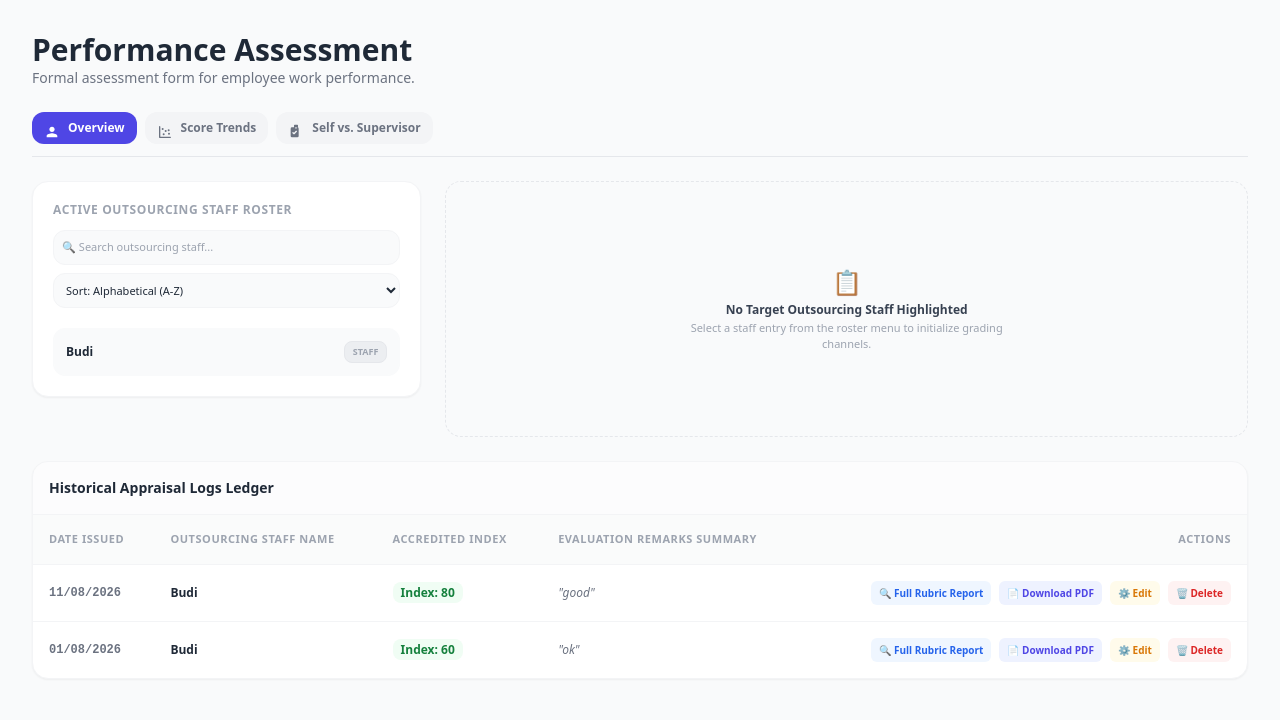
Test: PerformanceReviewView › the Self vs. Supervisor tab compares the latest self-assessment against the latest evaluation
Step 1. Click the tab "Self vs. Supervisor" → (354, 128), box [276,112,433,144]
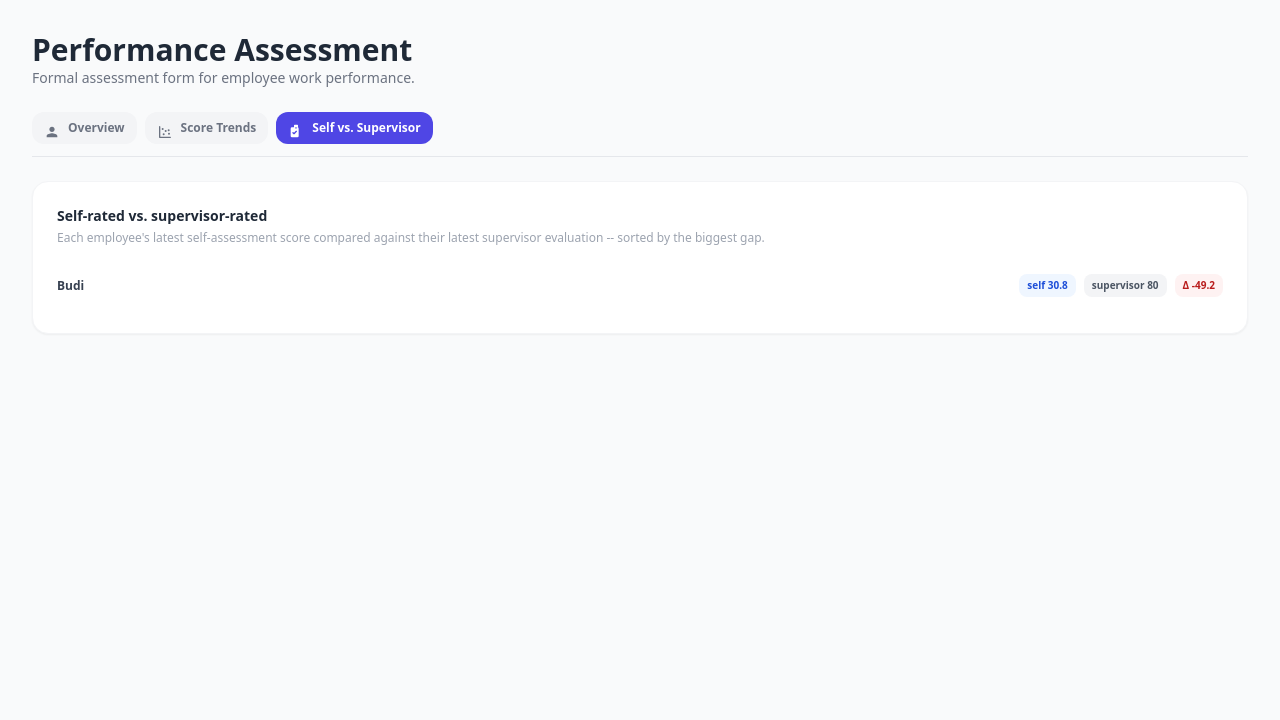
Check: the text "Budi" is shown, box [57,278,84,294]
Check: the text "self 30.8" is shown, box [1019,274,1076,297]
Check: the text "supervisor 80" is shown, box [1084,274,1167,297]
